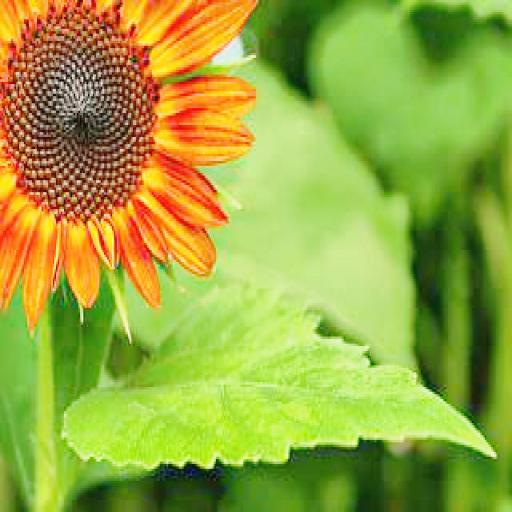sunflower: (0, 0, 252, 325)
